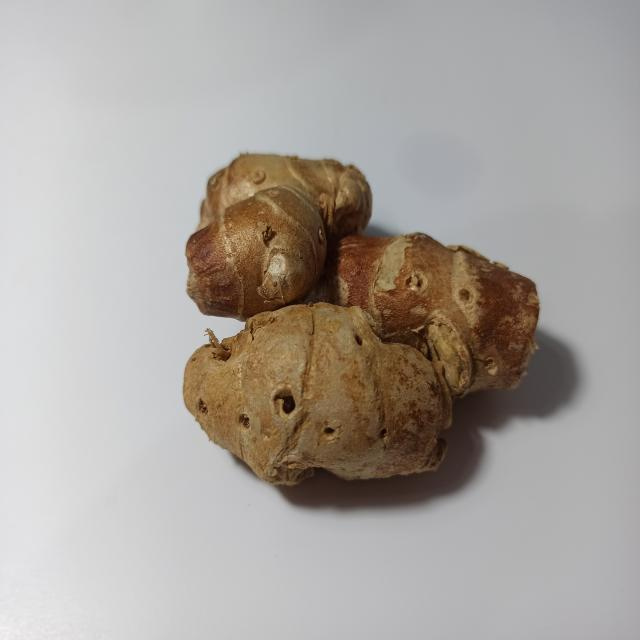ginger: (185, 146, 535, 468)
